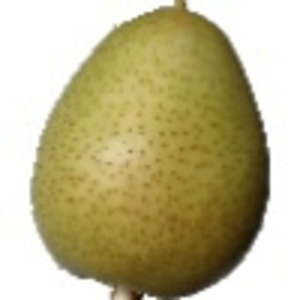pera: (29, 1, 271, 300)
